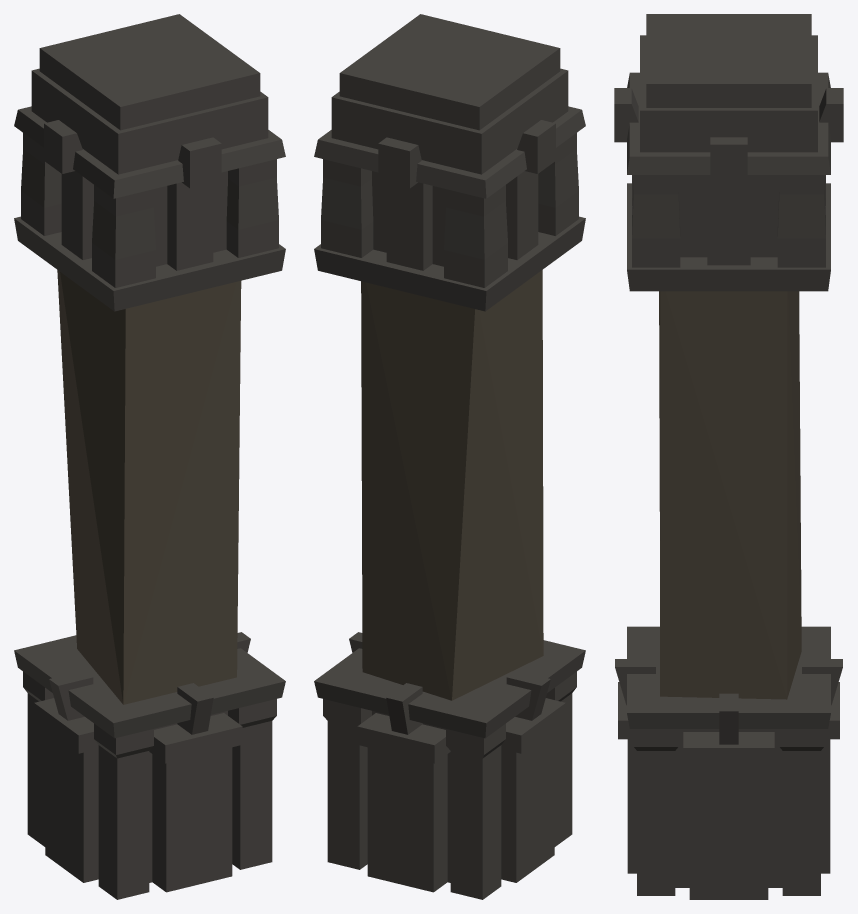
Rendered from Pillar_2_LOD.fbx.
The picture shows the model from 3 angles, left to right: view 1: azimuth 30°, elevation 25°; view 2: azimuth 150°, elevation 25°; view 3: azimuth 270°, elevation 25°; orthographic projection. The views are drawn at different scales.
Visible parts, largest first — view 1: polySurface1322; view 2: polySurface1322; view 3: polySurface1322.
Boxes of the visible parts, x1,y1,x2,y2 form: polySurface1322: (14,14,285,899); polySurface1322: (314,14,585,899); polySurface1322: (614,14,843,899).
Size of the model in its own units: 2.05 by 7.96 by 2.05.
